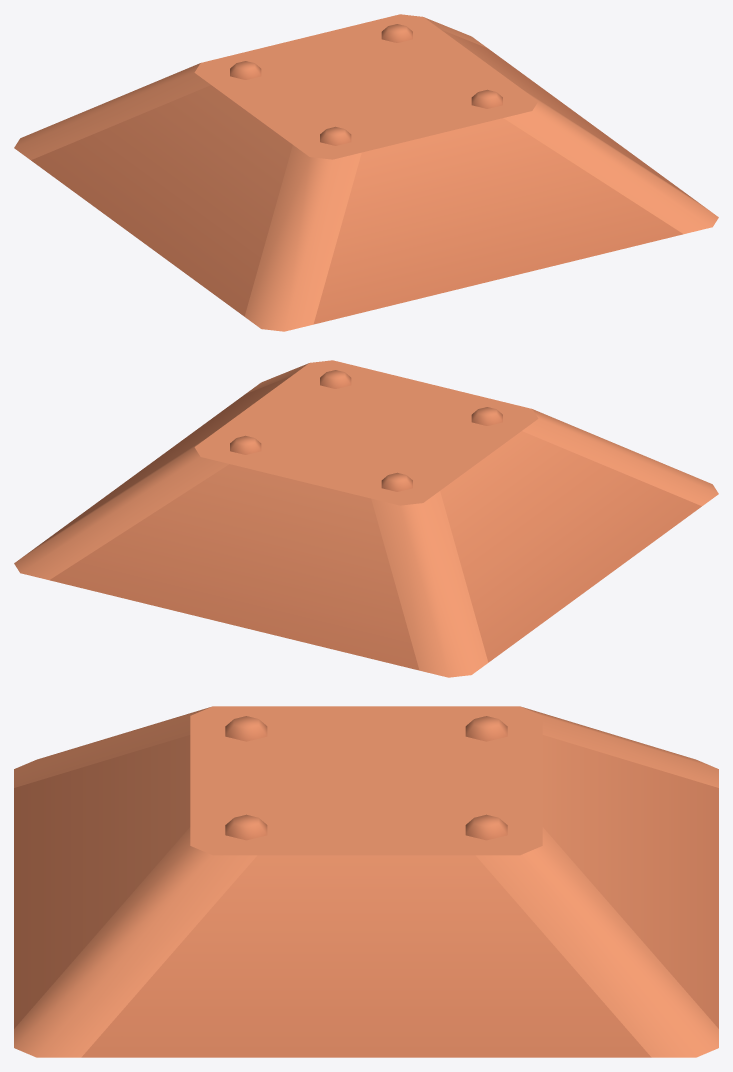
Rendered from obstacle-box.fbx.
3 views of the same model, one above another, from view 1: azimuth 30°, elevation 25°; view 2: azimuth 150°, elevation 25°; view 3: azimuth 270°, elevation 25° (orthographic). The views are drawn at different scales.
Visible parts, largest first — view 1: obstacle-box; view 2: obstacle-box; view 3: obstacle-box.
Boxes of the visible parts, left/top/right/bottom form: obstacle-box: left=14, top=14, right=718, bottom=331; obstacle-box: left=14, top=360, right=718, bottom=677; obstacle-box: left=14, top=706, right=718, bottom=1057.
Size of the model in its own units: 100 by 21.48 by 100.
1 material, 1 textured.
